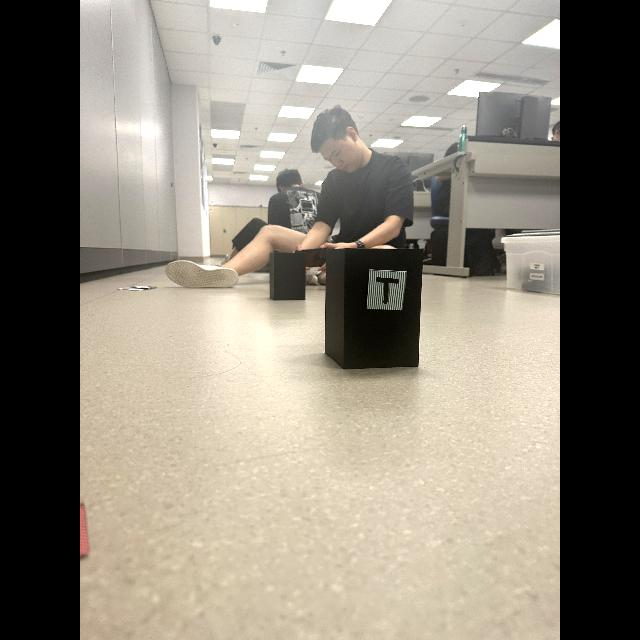T: (376, 278, 399, 304)
